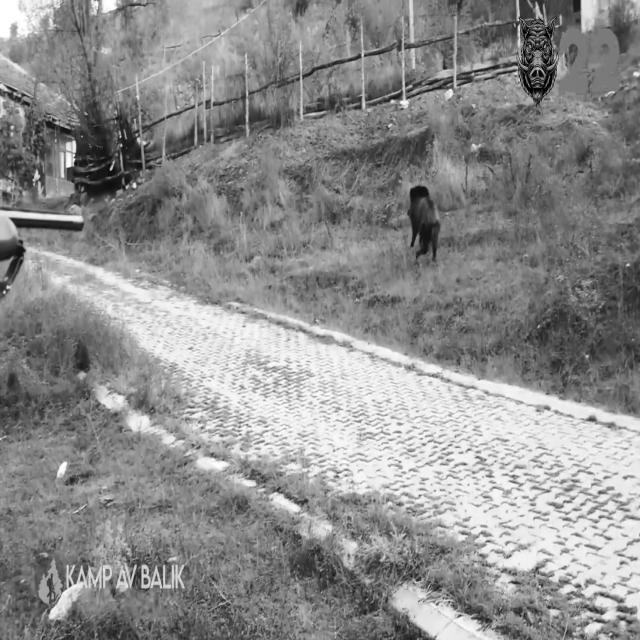boar: (408, 185, 439, 260)
